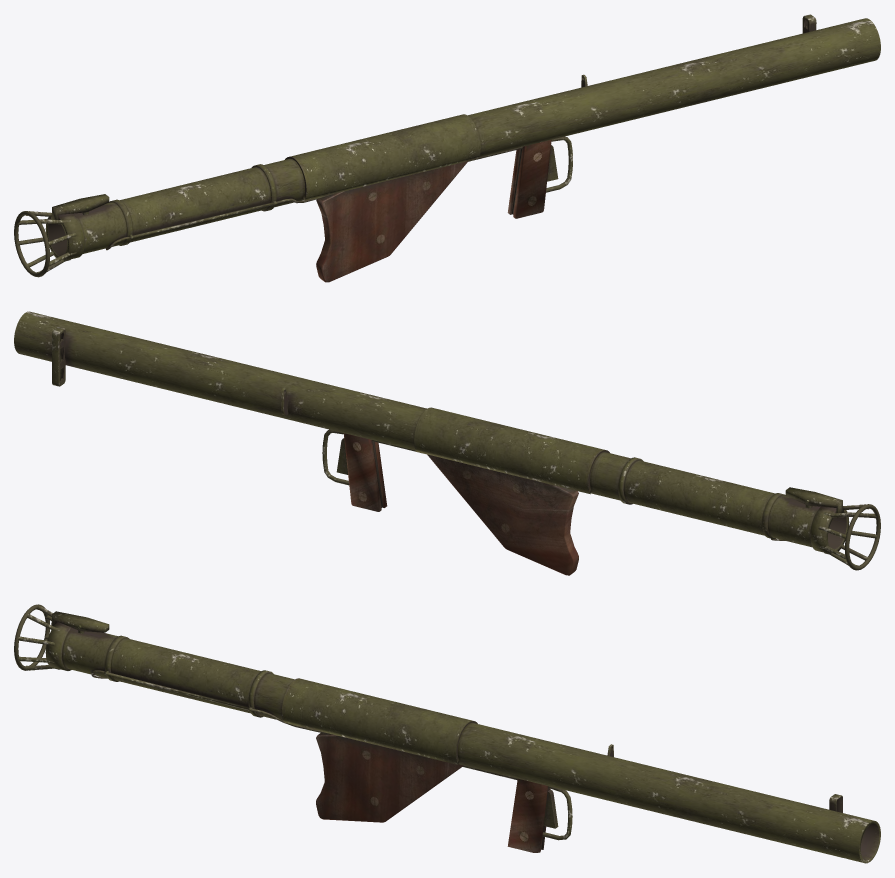
The model's file is bazuca.glb.
The picture shows the model from 3 angles, top to bottom: view 1: azimuth 30°, elevation 25°; view 2: azimuth 150°, elevation 25°; view 3: azimuth 330°, elevation 25°; orthographic projection.
Parts seen in each view (by area): view 1: defaultMaterial; view 2: defaultMaterial; view 3: defaultMaterial.
Part boxes in pixels (x1,y1,x2,y2): defaultMaterial: (14,14,880,282); defaultMaterial: (14,311,880,575); defaultMaterial: (14,604,880,863).
Bounding box in the file's own units: 1.55 × 0.2451 × 0.1086.
Materials: 1 (1 with a texture image).
